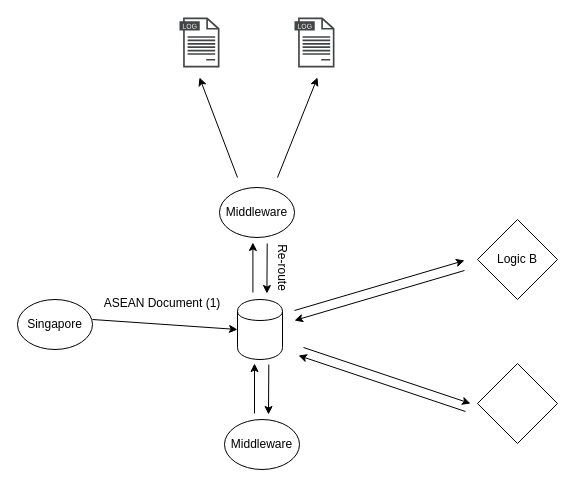
Image size: 575x487. Some labels were removed from this diagram. Here are the shapes that lost their labels. From the top down, the centre of each, then its label:
At [259,329]: "Kafka".
At [517,403]: "Logic A".
